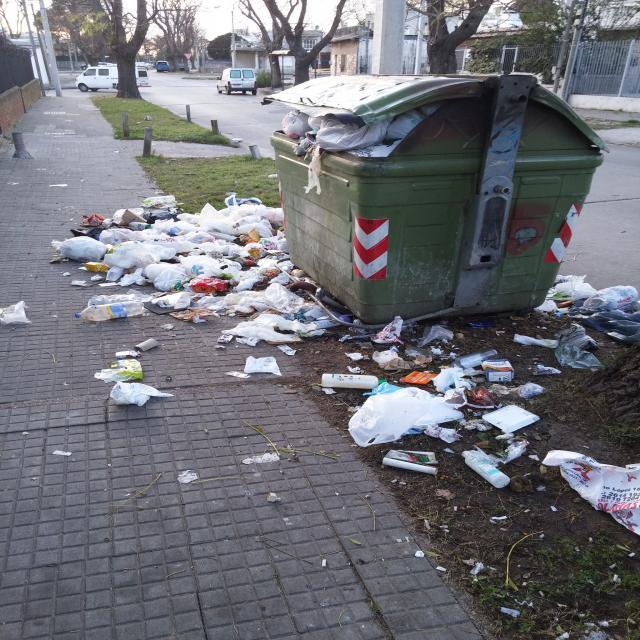garbage: (45, 182, 338, 344), (321, 316, 547, 492), (263, 92, 442, 166), (533, 268, 640, 370), (542, 444, 640, 540), (84, 334, 180, 412), (216, 344, 302, 386), (235, 446, 289, 480), (0, 296, 42, 338)
